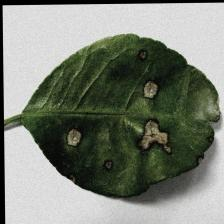canker: (58, 48, 178, 185)
